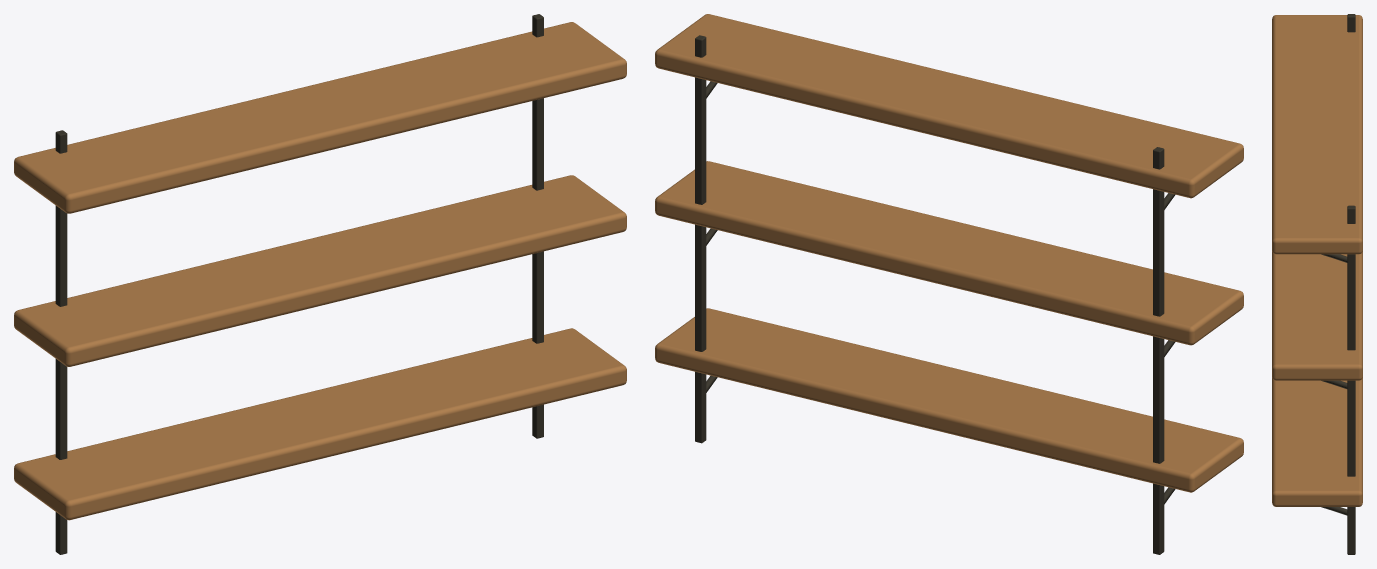
Rendered from atelier-shelf.glb.
3 renders of one model, left to right at view 1: azimuth 30°, elevation 25°; view 2: azimuth 150°, elevation 25°; view 3: azimuth 270°, elevation 25°, orthographic. The views are drawn at different scales.
Parts seen in each view (by area): view 1: atelier-shelf-boards, atelier-shelf-brackets; view 2: atelier-shelf-boards, atelier-shelf-brackets; view 3: atelier-shelf-boards, atelier-shelf-brackets.
Part boxes in pixels (box(x1,y1,x2,y2)): atelier-shelf-boards: box(14, 22, 626, 520); atelier-shelf-brackets: box(55, 14, 543, 554); atelier-shelf-boards: box(655, 14, 1243, 492); atelier-shelf-brackets: box(695, 35, 1175, 554); atelier-shelf-boards: box(1272, 15, 1362, 506); atelier-shelf-brackets: box(1321, 14, 1355, 554).
Bounding box in the file's own units: 1.65 × 1.18 × 0.28.
